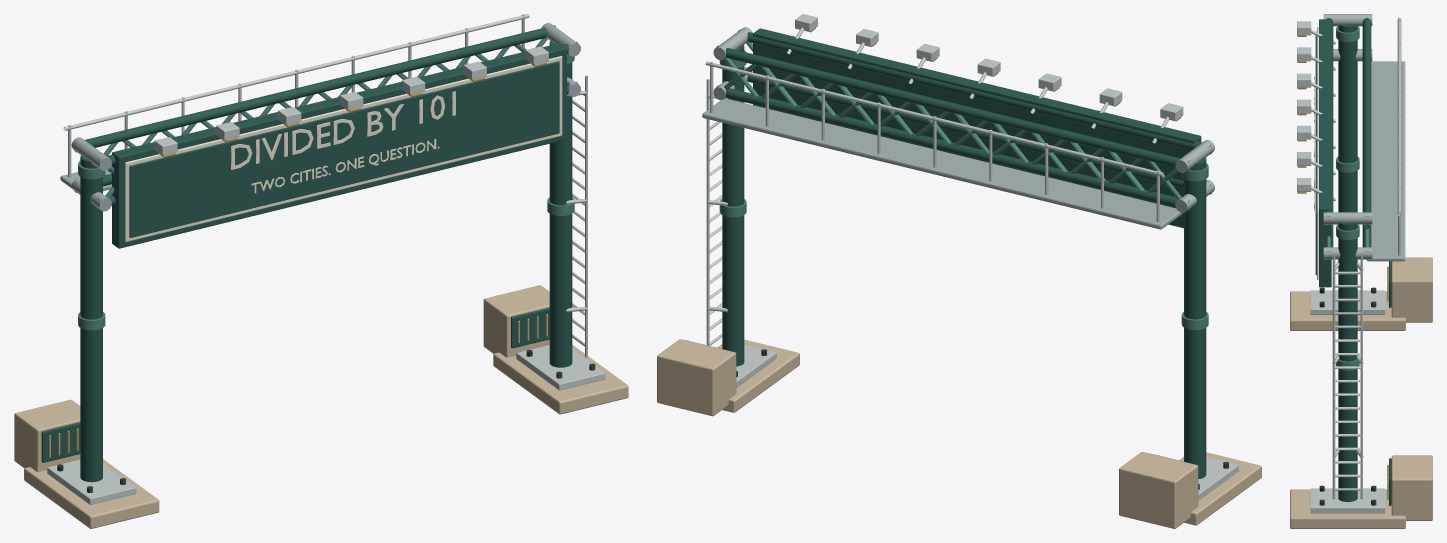
File: divided-101.glb
The picture shows the model from 3 angles, left to right: view 1: azimuth 30°, elevation 25°; view 2: azimuth 150°, elevation 25°; view 3: azimuth 270°, elevation 25°; orthographic projection. The views are drawn at different scales.
Parts seen in each view (by area): view 1: Deep teal.002, Stone.002, Silver.002, Ivory.002, Teal light.002, Steel.002, Gold.002; view 2: Deep teal.002, Stone.002, Steel.002, Silver.002, Teal light.002; view 3: Deep teal.002, Stone.002, Silver.002, Steel.002, Teal light.002, Ivory.002, Gold.002, Iron.002.
Part boxes in pixels (x1,y1,x2,y2): Deep teal.002: (41, 25, 578, 482); Stone.002: (14, 285, 628, 528); Silver.002: (47, 14, 605, 504); Ivory.002: (125, 56, 562, 241); Teal light.002: (78, 38, 574, 330); Steel.002: (60, 23, 580, 211); Gold.002: (49, 62, 547, 457); Deep teal.002: (685, 28, 1212, 479); Stone.002: (657, 339, 1261, 528); Steel.002: (702, 27, 1214, 229); Silver.002: (705, 14, 1238, 500); Teal light.002: (719, 42, 1208, 329); Deep teal.002: (1315, 18, 1391, 505); Stone.002: (1290, 257, 1432, 528); Silver.002: (1297, 17, 1401, 513); Steel.002: (1323, 14, 1405, 261); Teal light.002: (1326, 26, 1368, 370); Ivory.002: (1314, 27, 1318, 279); Gold.002: (1297, 35, 1388, 499); Iron.002: (1319, 287, 1376, 505).
Size of the model in its own units: 10.45 by 6.7 by 2.77.
